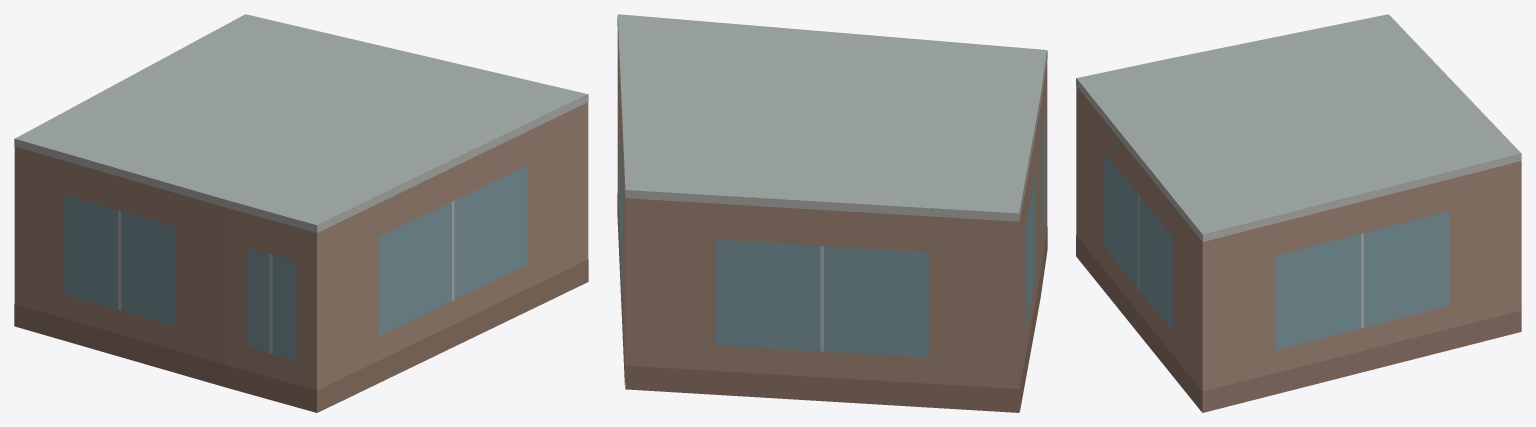
The model's file is survey-upis-32471725.glb.
The picture shows the model from 3 angles, left to right: view 1: azimuth 30°, elevation 25°; view 2: azimuth 150°, elevation 25°; view 3: azimuth 270°, elevation 25°; orthographic projection. The views are drawn at different scales.
Visible parts, largest first — view 1: survey-upis-32471725.tmp; view 2: survey-upis-32471725.tmp; view 3: survey-upis-32471725.tmp.
Boxes of the visible parts, x1,y1,x2,y2 form: survey-upis-32471725.tmp: [14, 14, 588, 412]; survey-upis-32471725.tmp: [617, 14, 1047, 412]; survey-upis-32471725.tmp: [1076, 14, 1521, 412].
Size of the model in its own units: 8.11 by 3.05 by 6.92.
